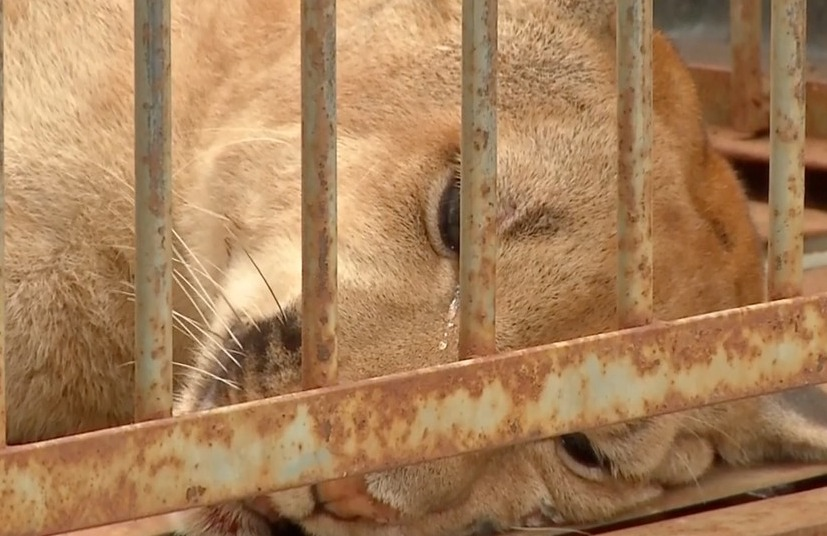OncaParda: (8, 6, 811, 532)
